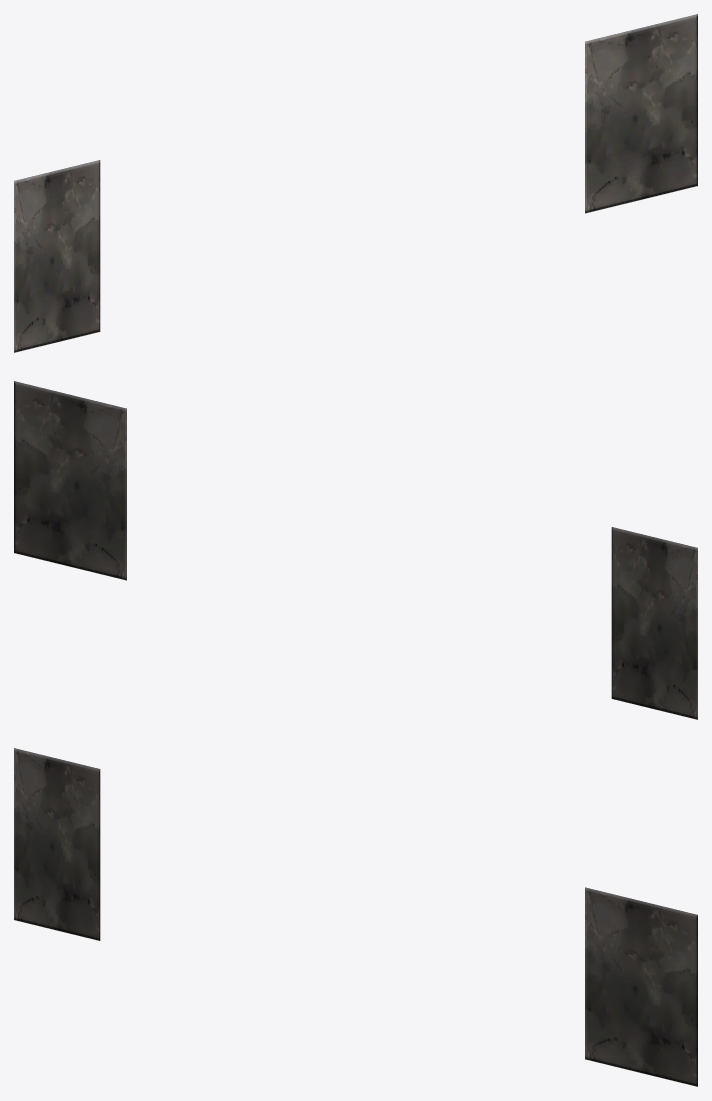
File: CH09_SMAUG_PLAYSURFACE_LAIR111.fbx
3 renders of one model, top to bottom at view 1: azimuth 30°, elevation 25°; view 2: azimuth 150°, elevation 25°; view 3: azimuth 330°, elevation 25°, orthographic.
Parts seen in each view (by area): view 1: CH09_SMAUG_PLAYSURFACE_LAIR111; view 2: CH09_SMAUG_PLAYSURFACE_LAIR111; view 3: CH09_SMAUG_PLAYSURFACE_LAIR111.
Part boxes in pixels (x1,y1,x2,y2): CH09_SMAUG_PLAYSURFACE_LAIR111: (14,14,697,352); CH09_SMAUG_PLAYSURFACE_LAIR111: (14,381,697,719); CH09_SMAUG_PLAYSURFACE_LAIR111: (14,748,697,1086).
Bounding box in the file's own units: 160440 × 38559 × 0.0307.
Materials: 1 (1 with a texture image).
